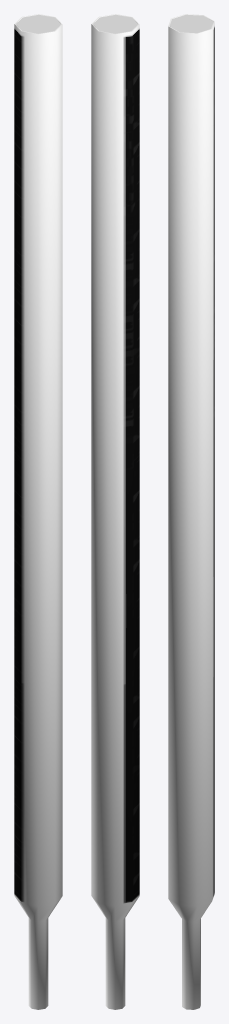
Rendered from Buret.fbx.
3 views of the same model, side by side, from view 1: azimuth 30°, elevation 25°; view 2: azimuth 210°, elevation 25°; view 3: azimuth 270°, elevation 25° (orthographic).
Parts seen in each view (by area): view 1: Buret, Buret Liq Shader; view 2: Buret, Buret Liq Shader; view 3: Buret, Buret Liq Shader.
Part boxes in pixels (left/top/right/bottom): Buret: left=14, top=14, right=62, bottom=1009; Buret Liq Shader: left=16, top=14, right=60, bottom=33; Buret: left=91, top=14, right=139, bottom=1009; Buret Liq Shader: left=93, top=14, right=137, bottom=33; Buret: left=168, top=14, right=214, bottom=1009; Buret Liq Shader: left=169, top=14, right=213, bottom=33.
Size of the model in its own units: 1.46 by 33.89 by 1.46.
